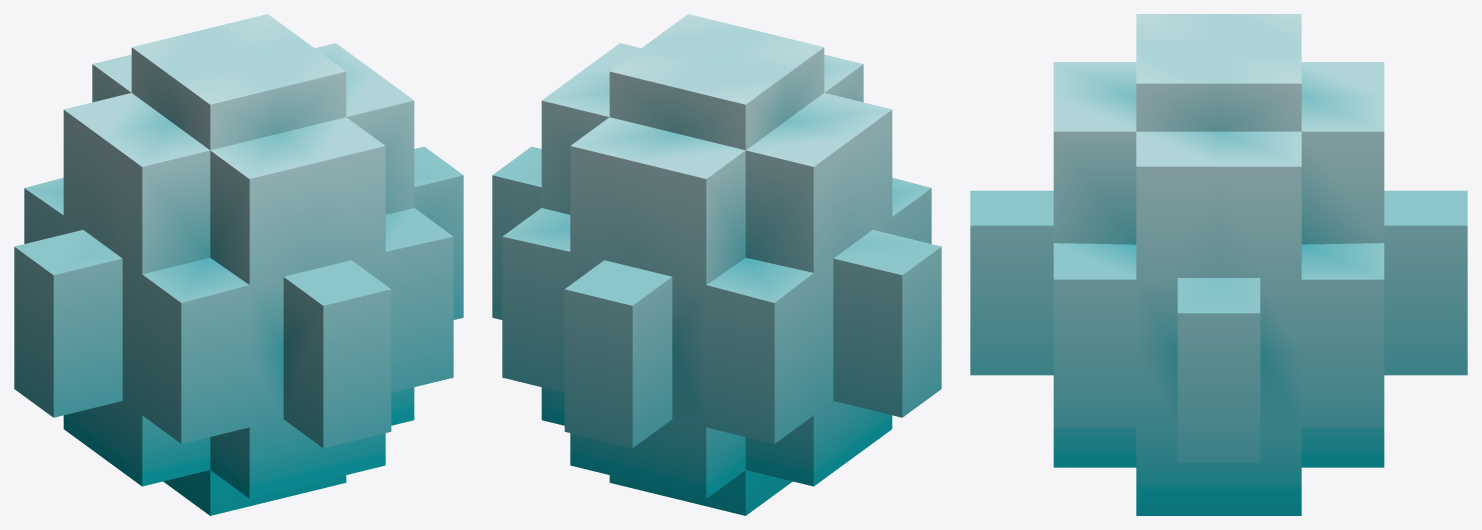
File: Egg Uncommon.fbx
3 views of the same model, side by side, from view 1: azimuth 30°, elevation 25°; view 2: azimuth 150°, elevation 25°; view 3: azimuth 270°, elevation 25° (orthographic). The views are drawn at different scales.
Visible parts, largest first — view 1: Egg Uncommon; view 2: Egg Uncommon; view 3: Egg Uncommon.
Boxes of the visible parts, left/top/right/bottom form: Egg Uncommon: left=14, top=14, right=463, bottom=515; Egg Uncommon: left=492, top=14, right=941, bottom=515; Egg Uncommon: left=970, top=14, right=1467, bottom=515.
Bounding box in the file's own units: 1.35 × 1.29 × 1.35.
